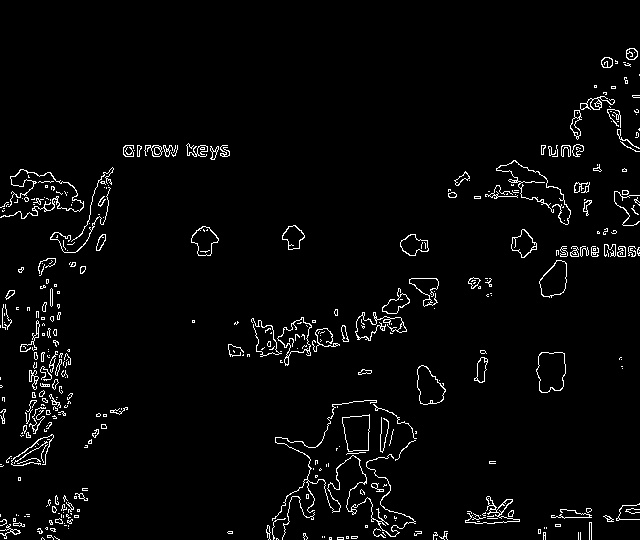left: (390, 226, 433, 263)
right: (505, 225, 543, 262)
up: (184, 215, 225, 265), (275, 217, 315, 254)
